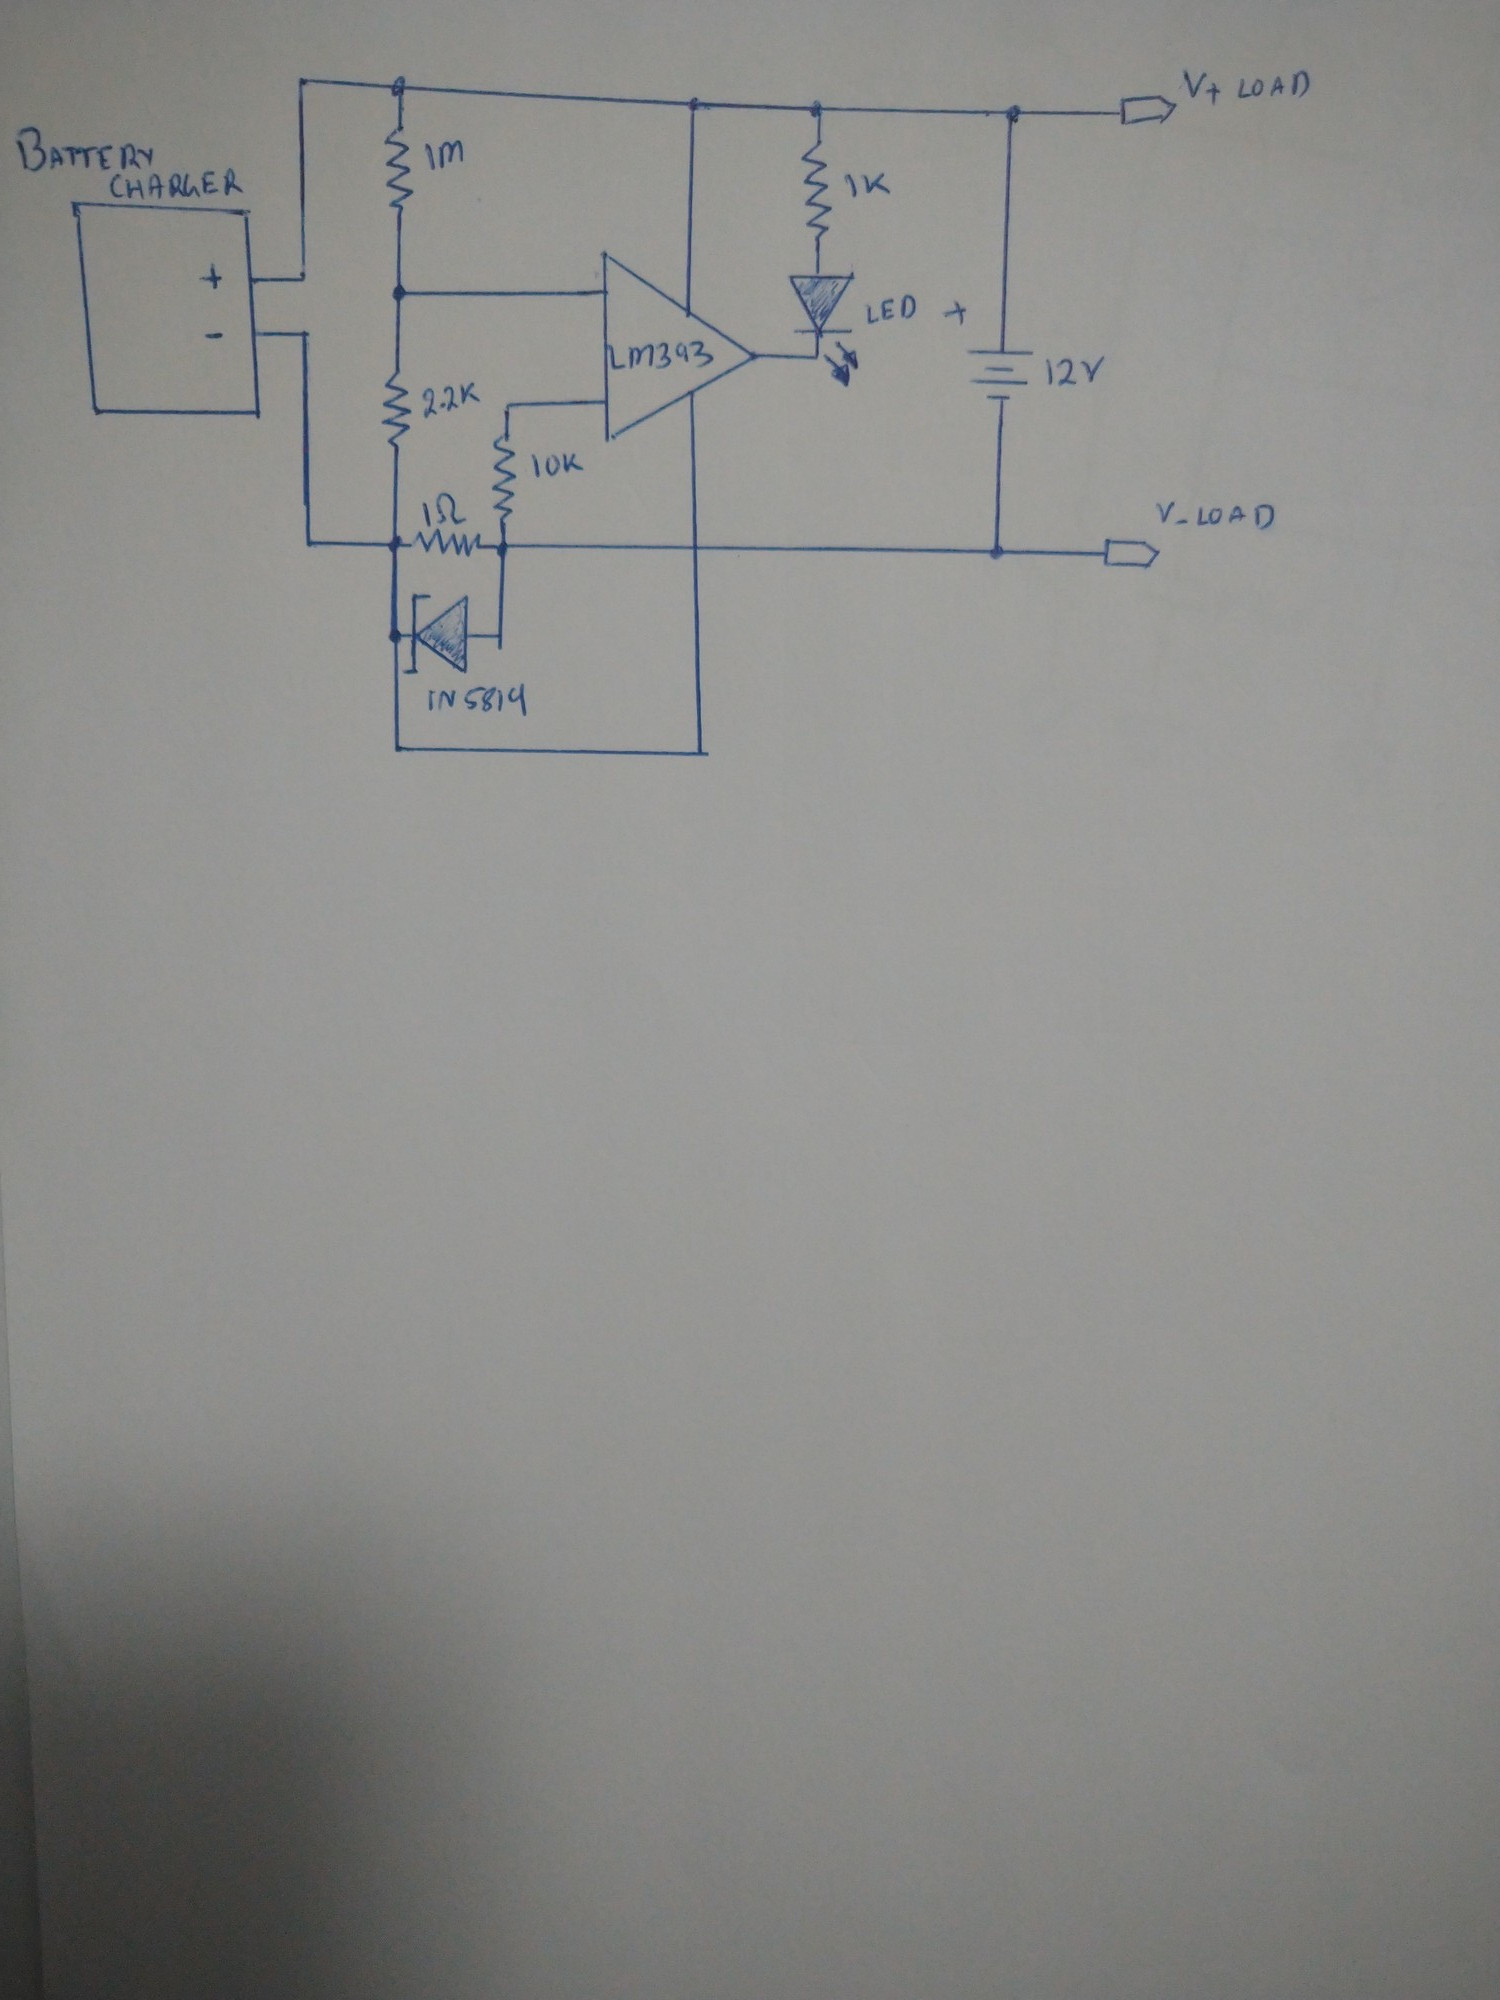crossover: (687, 542, 704, 554)
diode: (403, 592, 473, 679)
diode.light_emitting: (786, 272, 862, 391)
junction: (388, 72, 411, 98), (684, 91, 709, 115), (985, 542, 1008, 564), (1002, 102, 1026, 124), (804, 98, 826, 121), (388, 282, 410, 304), (490, 540, 514, 561), (386, 627, 407, 649), (293, 72, 315, 91), (381, 535, 405, 553), (692, 743, 711, 762), (807, 350, 826, 367), (490, 628, 509, 646), (291, 271, 310, 287), (501, 398, 518, 414), (391, 742, 408, 757), (303, 535, 317, 551), (296, 328, 314, 340)
operational_amplifier: (597, 249, 759, 446)
resistor: (799, 139, 834, 241), (381, 124, 418, 213), (488, 430, 522, 524), (381, 369, 413, 450), (408, 529, 484, 561)
terminal: (1098, 535, 1161, 573), (1116, 93, 1179, 128)
text: (9, 124, 154, 175), (1179, 68, 1312, 106), (109, 169, 243, 202), (1153, 498, 1276, 532), (425, 683, 529, 720), (603, 339, 715, 372), (1041, 354, 1109, 389), (421, 380, 481, 417), (865, 291, 920, 328), (419, 491, 466, 528), (422, 137, 470, 172), (528, 452, 585, 479), (841, 169, 890, 198)
voltage.dc: (69, 198, 263, 419), (966, 346, 1035, 403)
